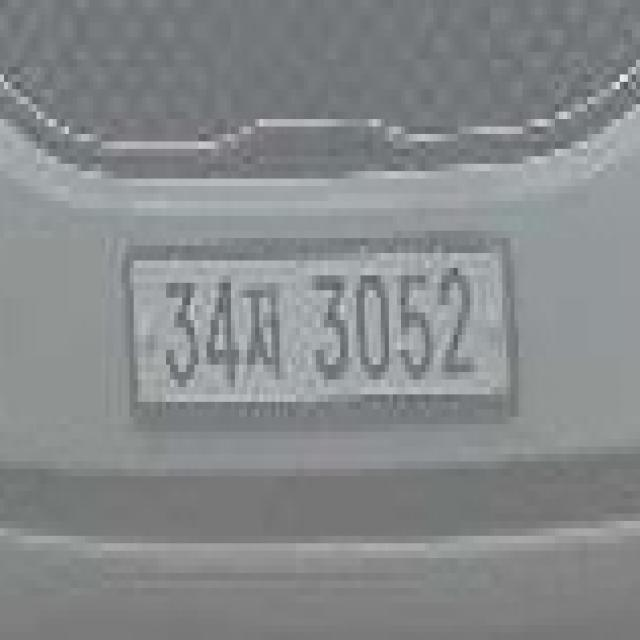0: (352, 268, 393, 387)
2: (437, 253, 474, 380)
3: (308, 268, 352, 379), (162, 275, 203, 387)
4: (199, 275, 243, 387)
5: (397, 268, 433, 379)
jeo: (239, 283, 279, 379)
license_plate: (122, 238, 522, 424)
